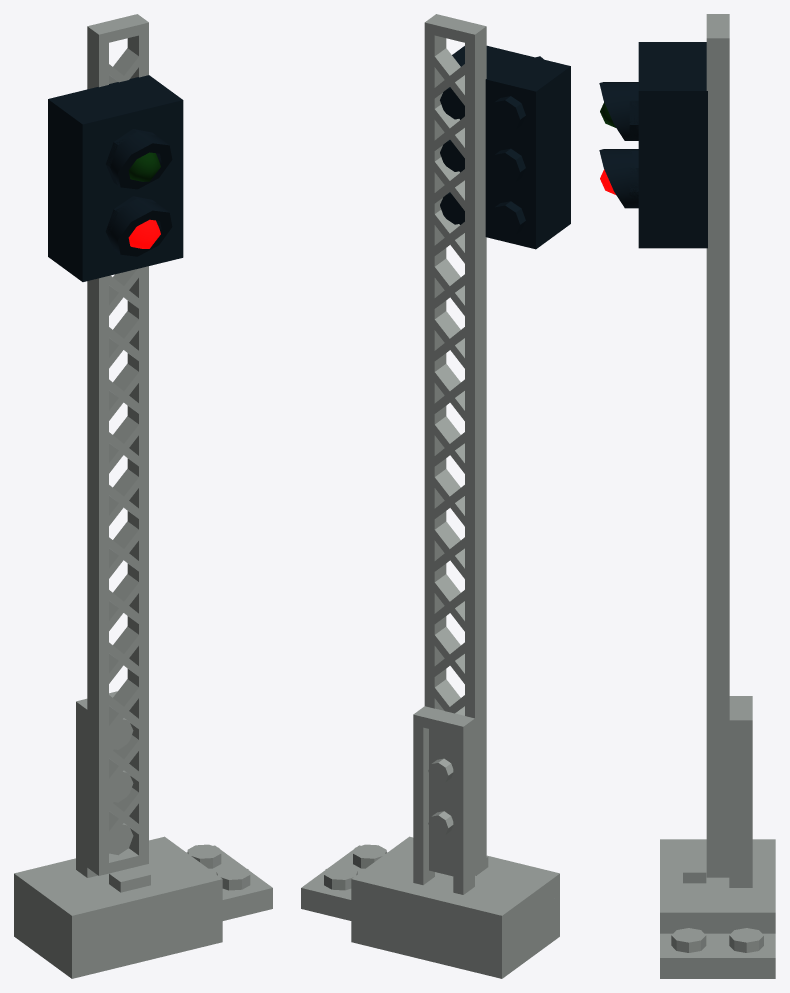
File: Signal2.gltf
3 views of the same model, side by side, from view 1: azimuth 30°, elevation 25°; view 2: azimuth 150°, elevation 25°; view 3: azimuth 270°, elevation 25° (orthographic).
Visible parts, largest first — view 1: 4168.dat, 70022.dat.001, 4169.dat, 3020.dat, 3021.dat, Green_Off, Red_On; view 2: 4168.dat, 4169.dat, 70022.dat.001, 3020.dat, 3021.dat; view 3: 4168.dat, 70022.dat.001, 4169.dat, 3020.dat.
Part boxes in pixels (left/top/right/bottom): 4168.dat: left=87, top=14, right=148, bottom=875; 70022.dat.001: left=48, top=75, right=183, bottom=281; 4169.dat: left=14, top=691, right=222, bottom=936; 3020.dat: left=14, top=844, right=272, bottom=957; 3021.dat: left=14, top=916, right=222, bottom=978; Green_Off: left=128, top=152, right=160, bottom=181; Red_On: left=128, top=219, right=160, bottom=248; 4168.dat: left=424, top=14, right=486, bottom=875; 4169.dat: left=351, top=706, right=559, bottom=936; 70022.dat.001: left=440, top=45, right=570, bottom=249; 3020.dat: left=301, top=844, right=559, bottom=957; 3021.dat: left=351, top=916, right=559, bottom=978; 4168.dat: left=706, top=14, right=729, bottom=877; 70022.dat.001: left=599, top=42, right=707, bottom=248; 4169.dat: left=660, top=696, right=775, bottom=933; 3020.dat: left=660, top=928, right=775, bottom=978.
Size of the model in its own units: 32 by 139 by 24.37.
1 material, 1 textured.
